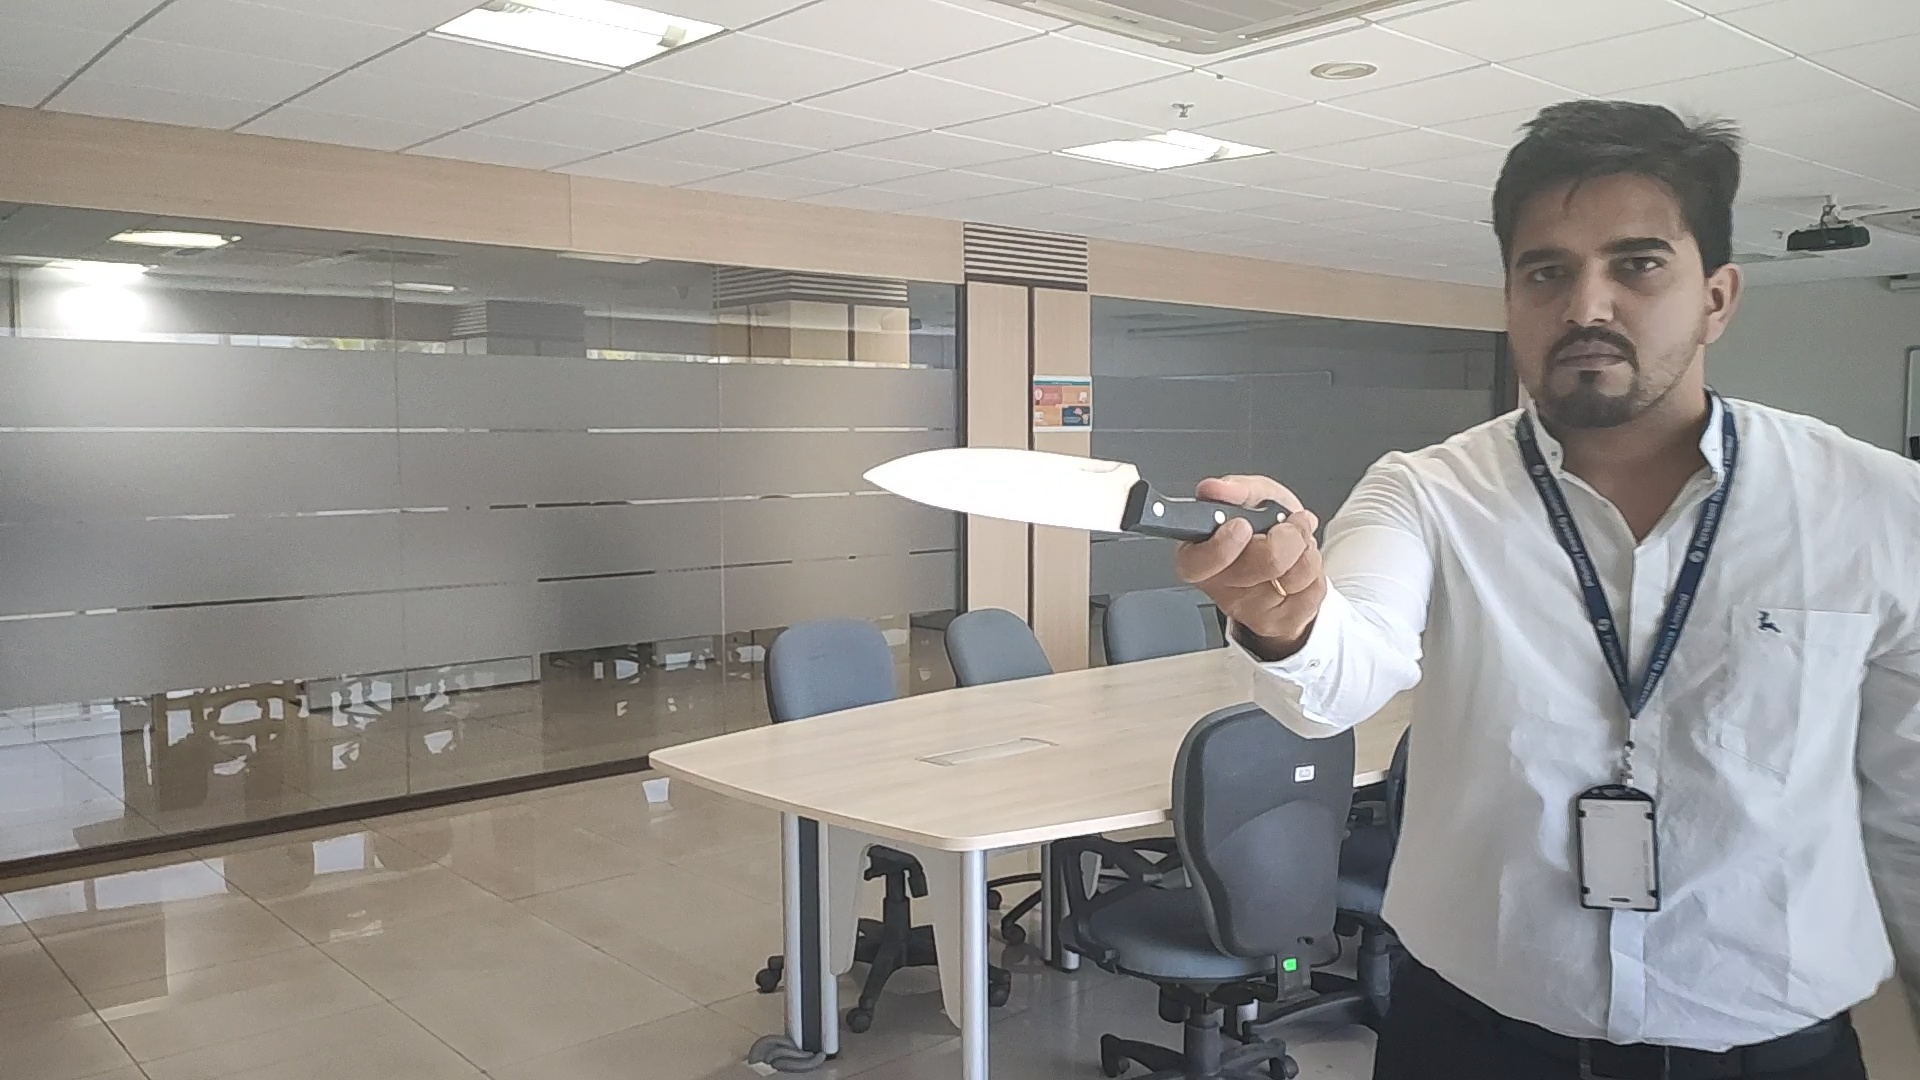knife: (865, 446, 1204, 545)
